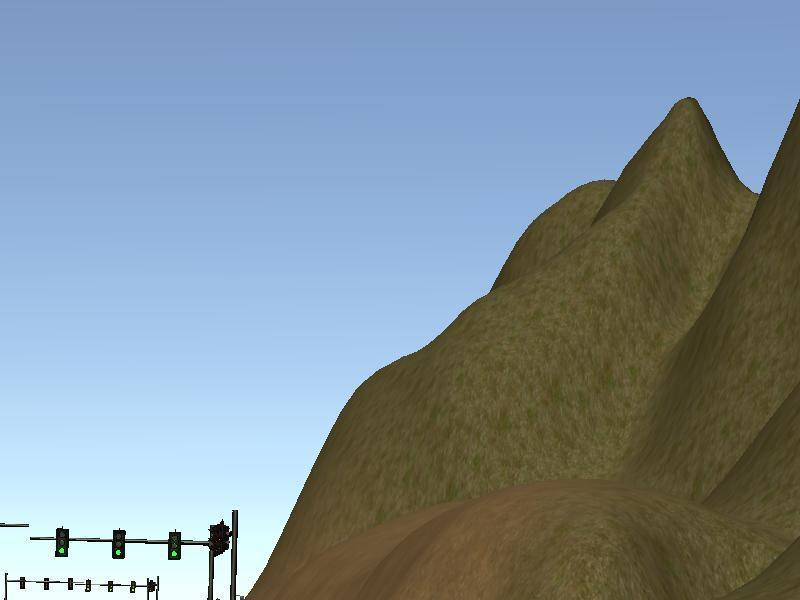Green: (111, 529, 126, 559), (168, 532, 182, 561), (56, 529, 69, 557)
